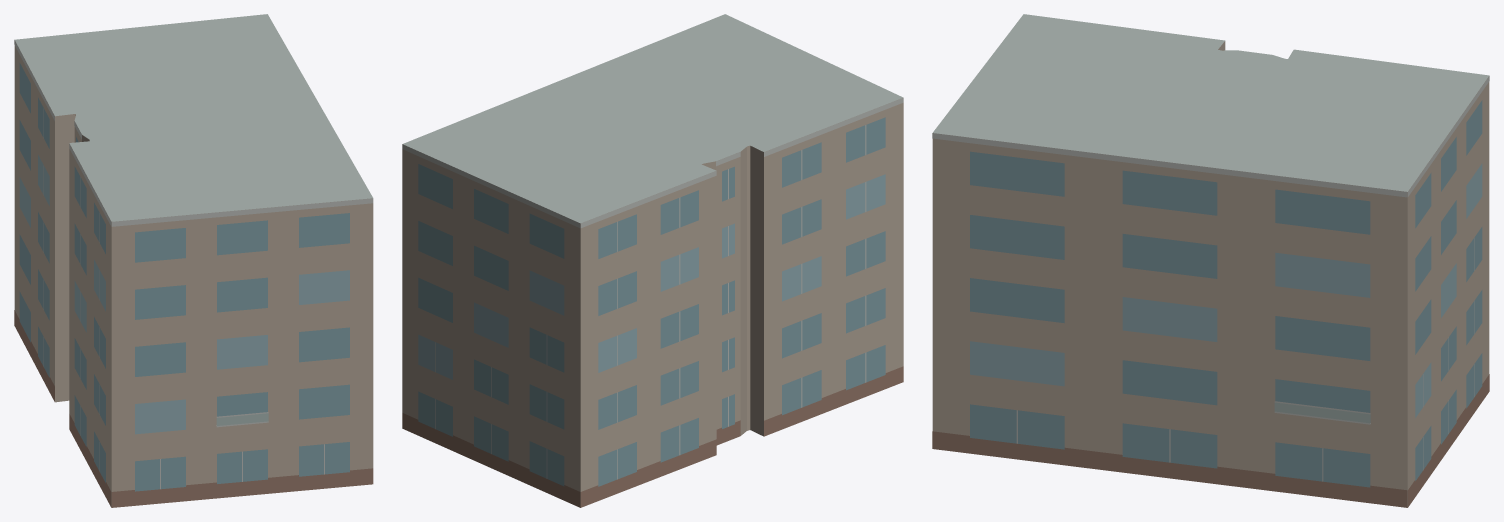
File: survey-upis-32925296.glb
3 views of the same model, side by side, from view 1: azimuth 30°, elevation 25°; view 2: azimuth 150°, elevation 25°; view 3: azimuth 270°, elevation 25° (orthographic). The views are drawn at different scales.
Visible parts, largest first — view 1: survey-upis-32925296.tmp; view 2: survey-upis-32925296.tmp; view 3: survey-upis-32925296.tmp.
Boxes of the visible parts, left/top/right/bottom form: survey-upis-32925296.tmp: left=14, top=14, right=373, bottom=507; survey-upis-32925296.tmp: left=402, top=14, right=903, bottom=507; survey-upis-32925296.tmp: left=932, top=14, right=1489, bottom=507.
Bounding box in the file's own units: 16.67 × 13.8 × 22.06.
